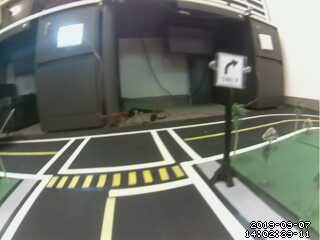Right_only_sign: (211, 52, 247, 94)
